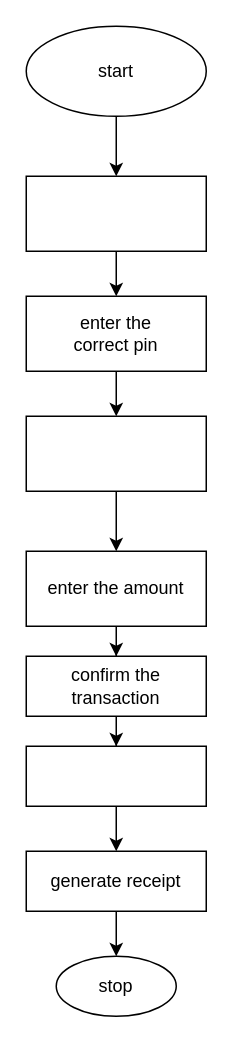
This 233x1043 diagram has some shape labels left out. Each missing label, with the centre of its shape:
give the money: the point at 115,775
Insert the ATM card: the point at 115,213
select cash with draw option: the point at 115,453
